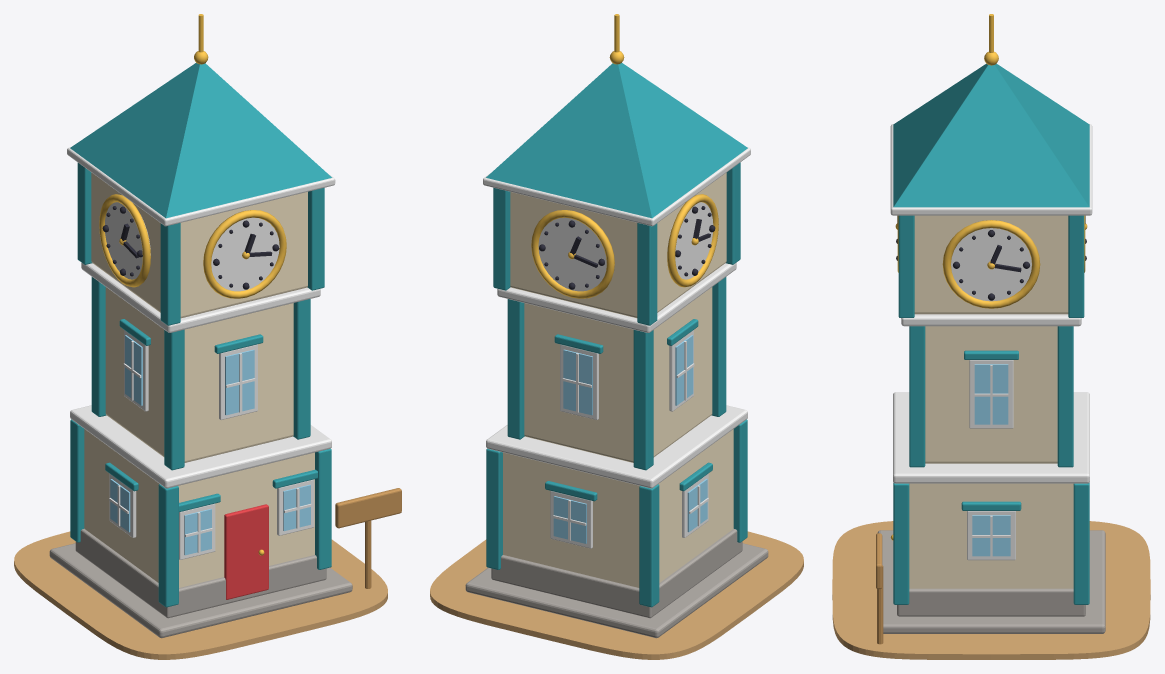
Rendered from clock-tower-stage-4.3659f068.glb.
3 views of the same model, side by side, from view 1: azimuth 30°, elevation 25°; view 2: azimuth 150°, elevation 25°; view 3: azimuth 270°, elevation 25° (orthographic). The views are drawn at different scales.
Parts seen in each view (by area): view 1: ClockTower_Stage4__T_teal, ClockTower_Stage4__T_cream, ClockTower_Stage4__T_white, ClockTower_Stage4__T_dirt, ClockTower_Stage4__T_stone, ClockTower_Stage4__T_glass, ClockTower_Stage4__T_gold, ClockTower_Stage4__T_red, ClockTower_Stage4__T_wood, ClockTower_Stage4__T_dark; view 2: ClockTower_Stage4__T_cream, ClockTower_Stage4__T_teal, ClockTower_Stage4__T_white, ClockTower_Stage4__T_dirt, ClockTower_Stage4__T_stone, ClockTower_Stage4__T_glass, ClockTower_Stage4__T_gold, ClockTower_Stage4__T_dark; view 3: ClockTower_Stage4__T_cream, ClockTower_Stage4__T_teal, ClockTower_Stage4__T_white, ClockTower_Stage4__T_dirt, ClockTower_Stage4__T_stone, ClockTower_Stage4__T_glass, ClockTower_Stage4__T_gold, ClockTower_Stage4__T_wood, ClockTower_Stage4__T_dark.
Boxes of the visible parts, x1,y1,x2,y2 form: ClockTower_Stage4__T_teal: (70,63,331,607); ClockTower_Stage4__T_cream: (84,172,314,587); ClockTower_Stage4__T_white: (67,147,335,559); ClockTower_Stage4__T_dirt: (14,531,387,659); ClockTower_Stage4__T_stone: (49,528,352,638); ClockTower_Stage4__T_glass: (110,335,310,555); ClockTower_Stage4__T_gold: (99,14,286,555); ClockTower_Stage4__T_red: (224,504,268,599); ClockTower_Stage4__T_wood: (335,488,401,588); ClockTower_Stage4__T_dark: (102,206,279,289); ClockTower_Stage4__T_cream: (503,172,733,587); ClockTower_Stage4__T_teal: (486,63,747,607); ClockTower_Stage4__T_white: (483,147,750,548); ClockTower_Stage4__T_dirt: (430,531,803,659); ClockTower_Stage4__T_stone: (465,529,768,638); ClockTower_Stage4__T_glass: (553,335,707,543); ClockTower_Stage4__T_gold: (531,14,718,298); ClockTower_Stage4__T_dark: (539,206,715,289); ClockTower_Stage4__T_cream: (909,215,1073,588); ClockTower_Stage4__T_teal: (893,63,1089,604); ClockTower_Stage4__T_white: (890,124,1092,560); ClockTower_Stage4__T_dirt: (832,521,1150,659); ClockTower_Stage4__T_stone: (877,530,1105,633); ClockTower_Stage4__T_glass: (972,364,1010,556); ClockTower_Stage4__T_gold: (890,14,1087,540); ClockTower_Stage4__T_wood: (876,533,883,644); ClockTower_Stage4__T_dark: (896,216,1086,300).
Bounding box in the file's own units: 4.98 × 9.62 × 4.8.
